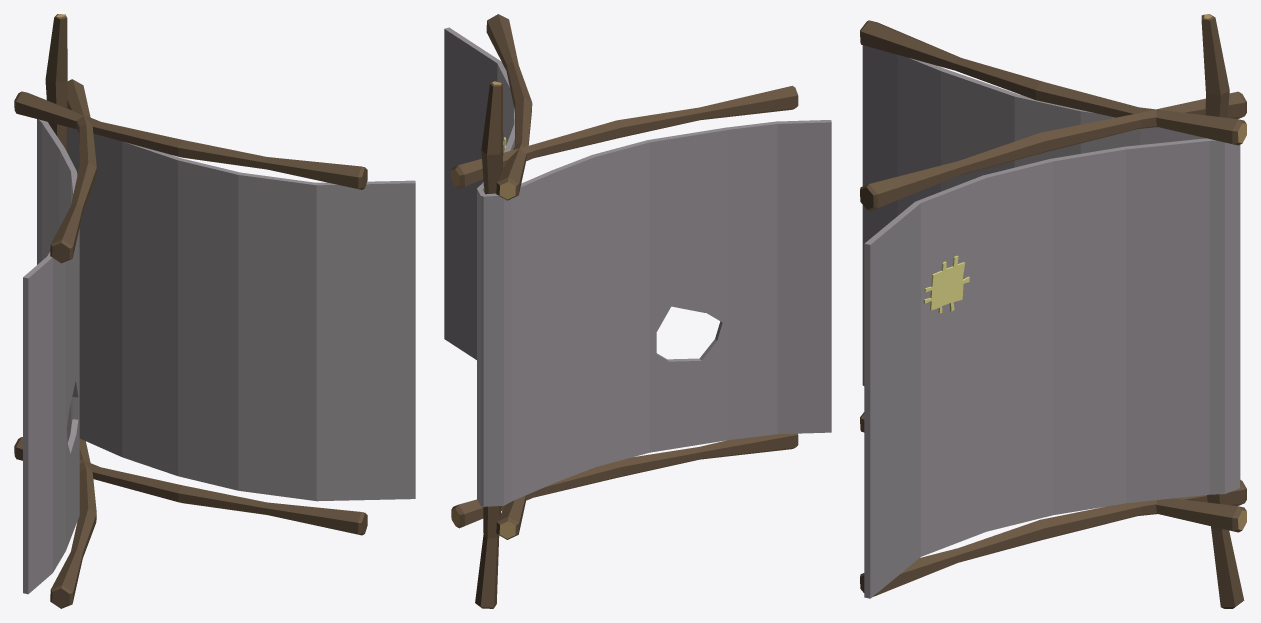
File: tent.fbx
The picture shows the model from 3 angles, left to right: view 1: azimuth 30°, elevation 25°; view 2: azimuth 150°, elevation 25°; view 3: azimuth 270°, elevation 25°; orthographic projection. The views are drawn at different scales.
Parts seen in each view (by area): view 1: Цилиндр; view 2: Цилиндр; view 3: Цилиндр.
Part boxes in pixels (box(x1,y1,x2,y2)): Цилиндр: box(14, 14, 415, 608); Цилиндр: box(444, 14, 831, 608); Цилиндр: box(860, 14, 1246, 608).
Bounding box in the file's own units: 2.85 × 3.64 × 2.16.
